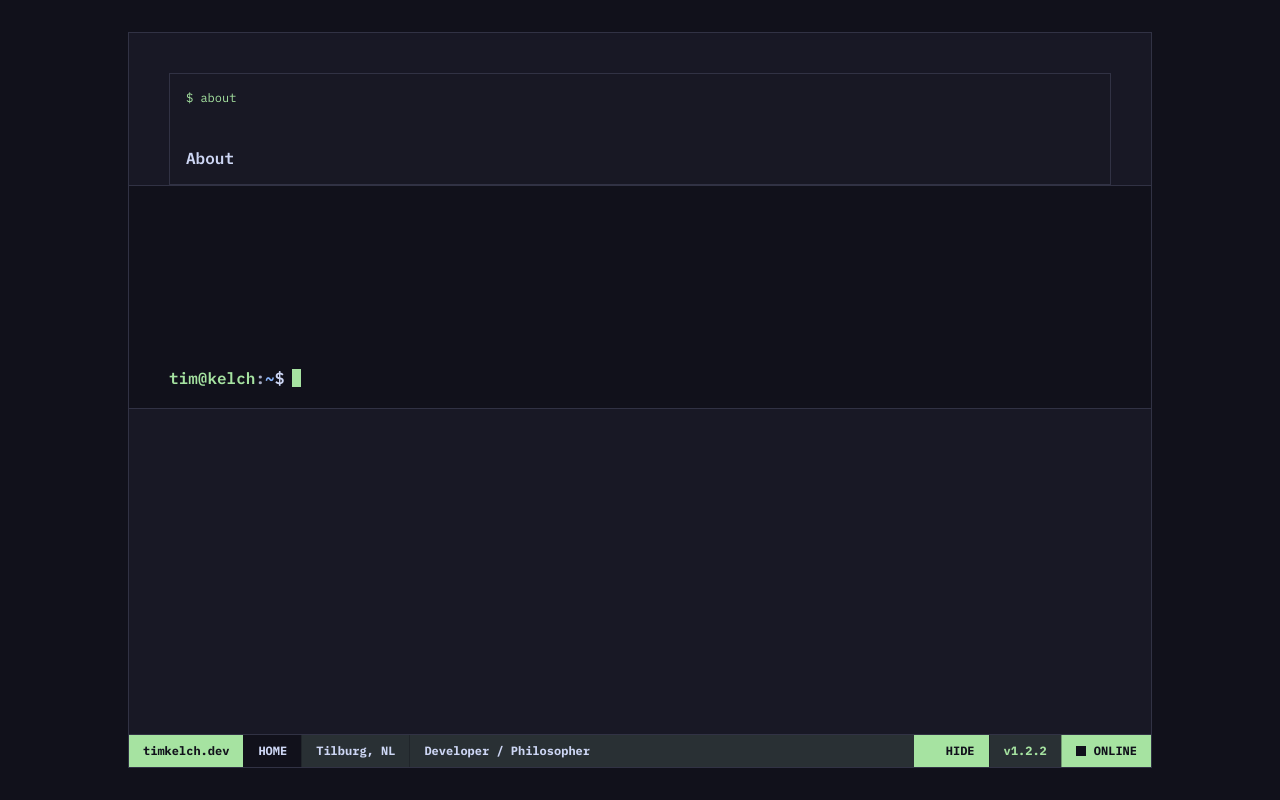
terminal interaction › prints errors and clears transient output with Ctrl+L
Type "unknown" into the field named "Terminal command" at {"x": 702, "y": 378}, box x1=292 y1=368 x2=1111 y2=388
Then press Enter
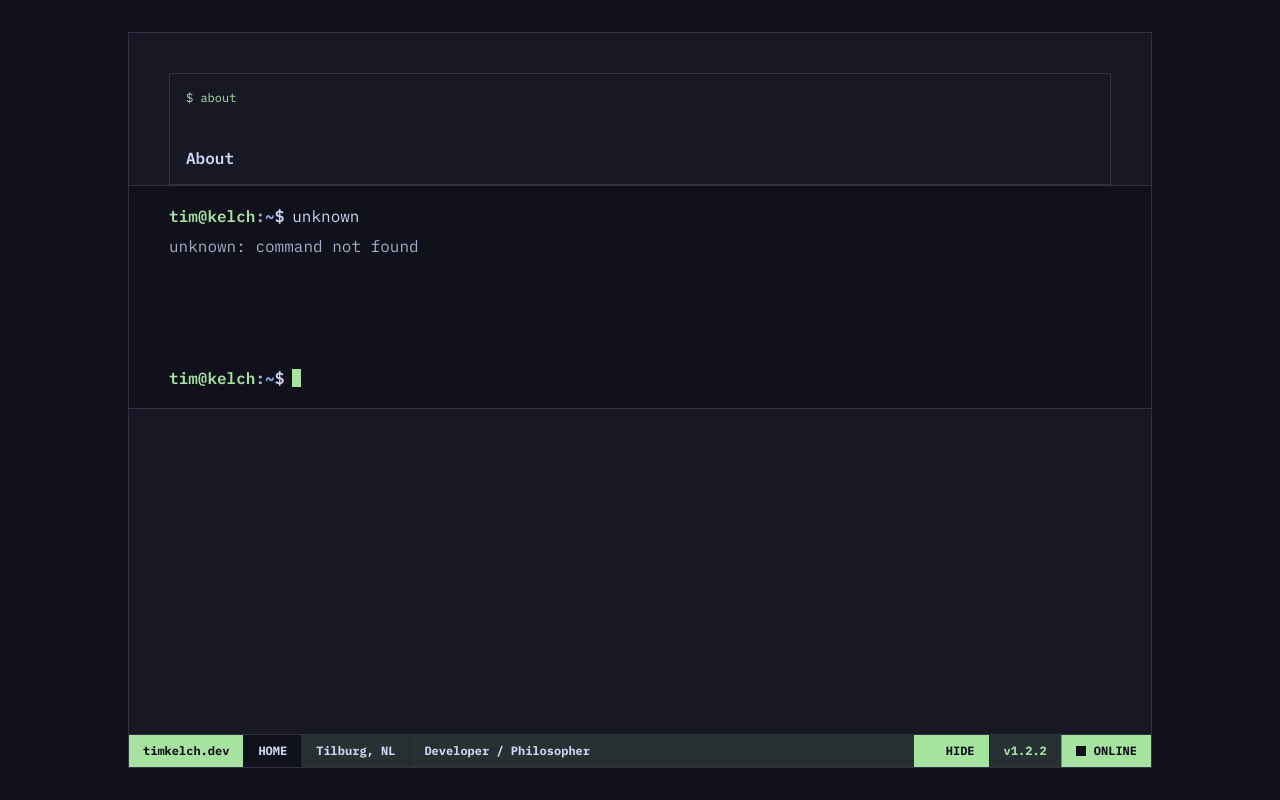
Result: the text "unknown: command not found" is shown at x1=169 y1=236 x2=419 y2=256
Press l in the field named "Terminal command", box x1=292 y1=368 x2=1111 y2=388
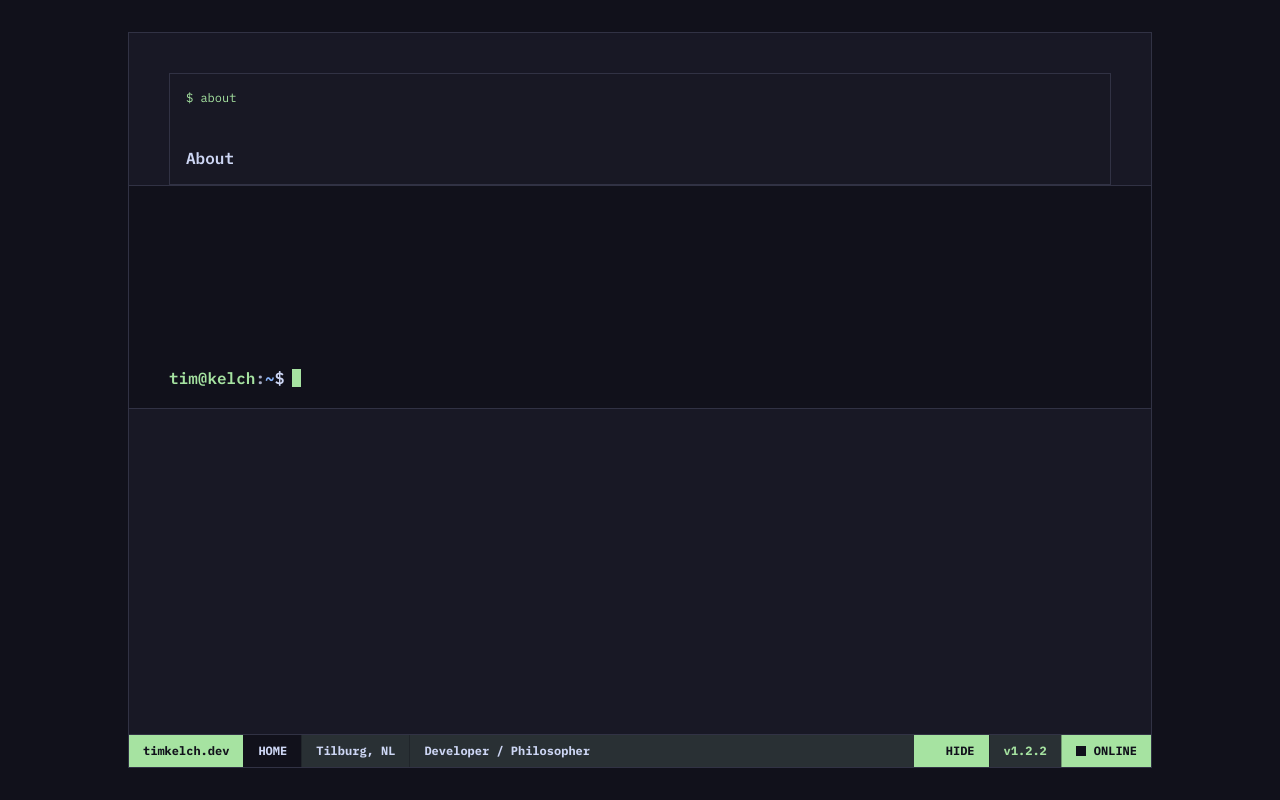
Result: the text "unknown: command not found" is gone
